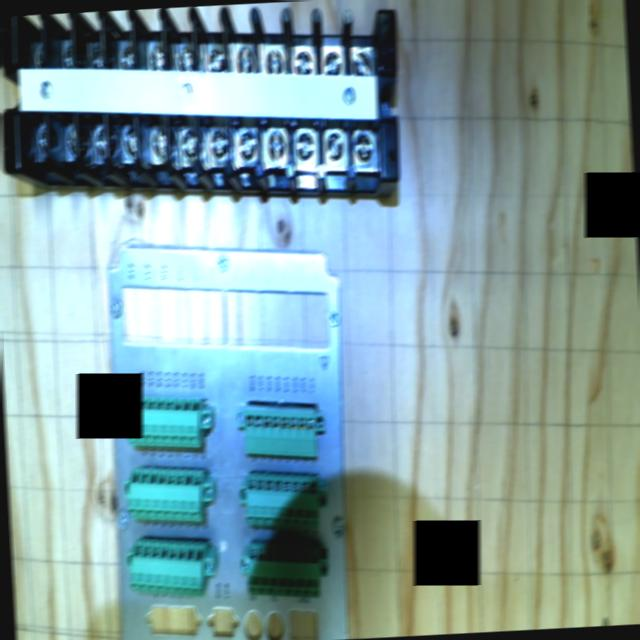Terminal_2: (245, 469, 322, 527), (246, 540, 322, 597), (129, 541, 207, 596), (127, 469, 204, 521), (125, 396, 202, 447)
